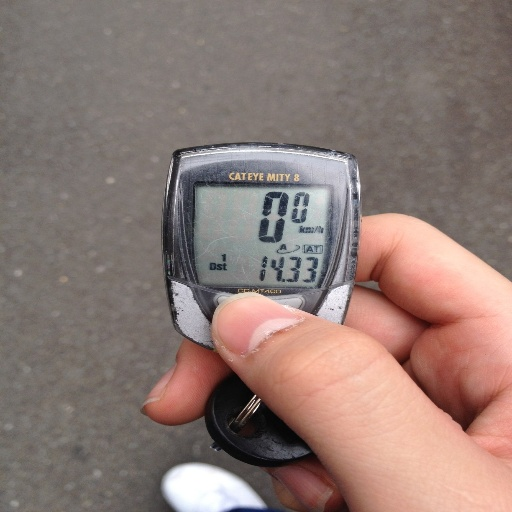hand: (133, 209, 511, 511)
